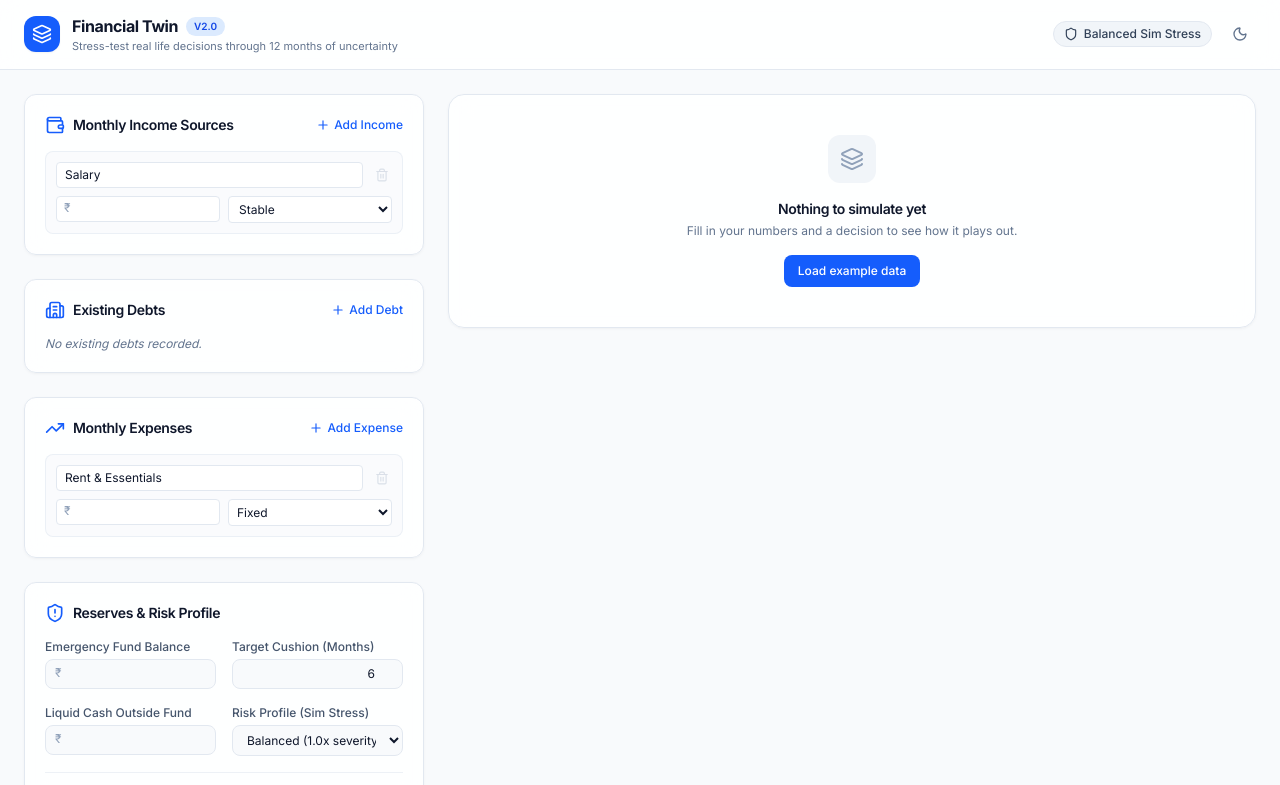
it: Part 9 - State Wiring & Recompute Invariants › empty state offers example data that populates a simulation on demand
This screenshot has width=1280, height=785.
expect the element with test id "results-empty-state" is shown: met, box [448,94,1256,328]
Click the button "Load example data": [852, 270] box [784,254,920,286]
Wait 200 ms
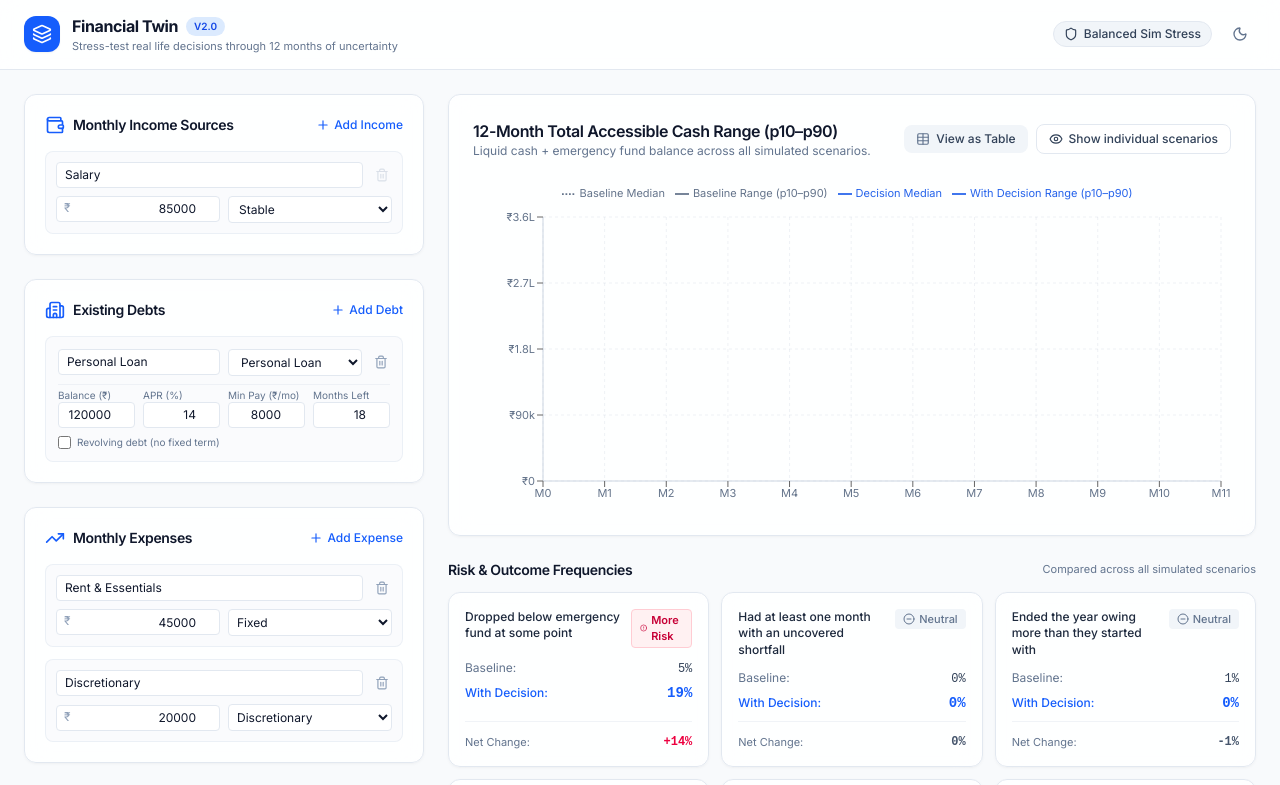
expect the element with test id "results-empty-state" is gone: met
expect the button "Show individual scenarios" is shown: met, box [1036,124,1231,154]
expect the number field named "Monthly Amount" below "Monthly Income Sources" holds "85000": met, box [56,196,220,222]
